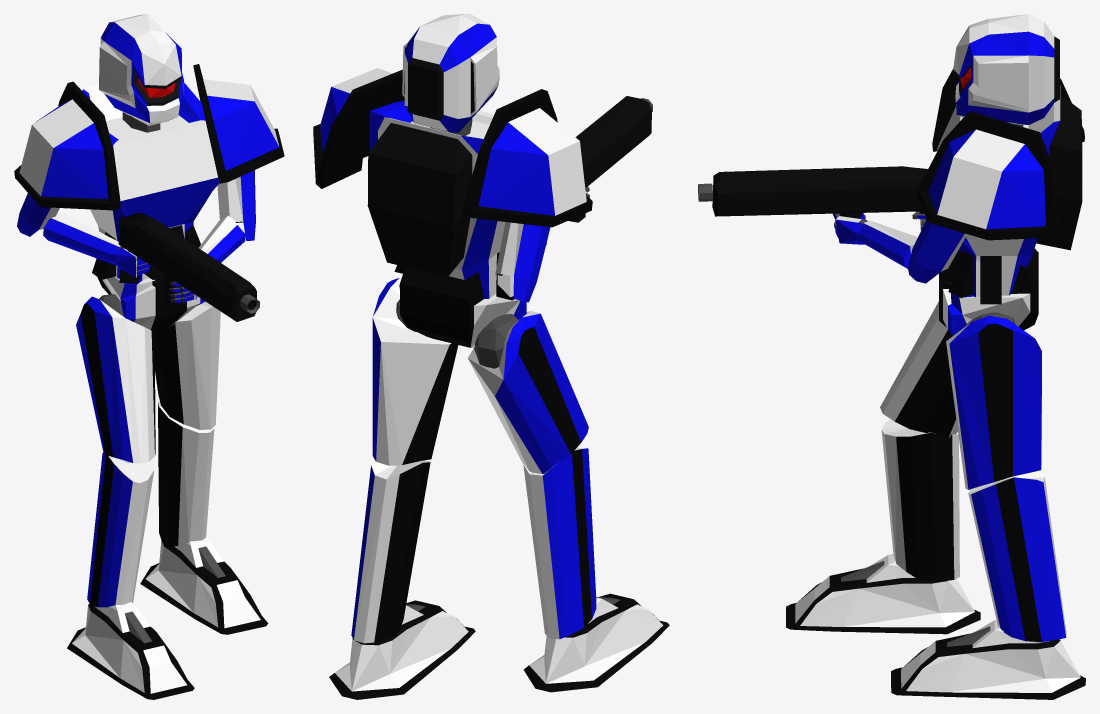
The model's file is robots_000009.obj.
3 views of the same model, side by side, from view 1: azimuth 30°, elevation 25°; view 2: azimuth 150°, elevation 25°; view 3: azimuth 270°, elevation 25° (orthographic). The views are drawn at different scales.
Visible parts, largest first — view 1: Chest_plate_Cube.004, R_Thigh_Cube.005, Cube.002_Cube.059, Head_base_Cube.022, R_Shin_Cube.007, R_Foot_Cube, R_Foot.002_Cube.035, R_Thigh.002_Cube.027, Cube_Cube.001, R_Shin.002_Cube.029, Cube_Cube.021, Pelvis_Cube.006 (+5 smaller); view 2: Chest_plate_Cube.004, Cube.002_Cube.059, R_Thigh.002_Cube.027, R_Thigh_Cube.005, R_Shin_Cube.007, R_Shin.002_Cube.029, Head_base_Cube.022, R_Foot_Cube, R_Foot.002_Cube.035, Pelvis_Cube.006, Cube_Cube.021, Cube_Cube.001 (+2 smaller); view 3: Cube_Cube.021, R_Thigh.002_Cube.027, R_Shin.002_Cube.029, R_Shin_Cube.007, R_Foot.002_Cube.035, R_Foot_Cube, Head_base_Cube.022, Cube_Cube.001, Chest_plate_Cube.004, R_Thigh_Cube.005, Pelvis_Cube.006, L_Arm_Cube.014 (+3 smaller).
Boxes of the visible parts, left/top/right/bottom form: Chest_plate_Cube.004: left=82, top=83, right=219, bottom=284; R_Thigh_Cube.005: left=76, top=296, right=155, bottom=463; Cube.002_Cube.059: left=14, top=81, right=120, bottom=210; Head_base_Cube.022: left=99, top=14, right=184, bottom=125; R_Shin_Cube.007: left=87, top=452, right=154, bottom=607; R_Foot_Cube: left=67, top=602, right=194, bottom=699; R_Foot.002_Cube.035: left=140, top=538, right=268, bottom=634; R_Thigh.002_Cube.027: left=153, top=301, right=220, bottom=429; Cube_Cube.001: left=118, top=212, right=259, bottom=321; R_Shin.002_Cube.029: left=158, top=401, right=214, bottom=546; Cube_Cube.021: left=193, top=64, right=284, bottom=183; Pelvis_Cube.006: left=96, top=258, right=205, bottom=331; Chest_plate_Cube.004: left=367, top=101, right=514, bottom=300; Cube.002_Cube.059: left=462, top=89, right=592, bottom=227; R_Thigh.002_Cube.027: left=372, top=277, right=458, bottom=465; R_Thigh_Cube.005: left=468, top=311, right=588, bottom=473; R_Shin_Cube.007: left=523, top=447, right=596, bottom=639; R_Shin.002_Cube.029: left=351, top=457, right=430, bottom=643; Head_base_Cube.022: left=402, top=14, right=499, bottom=132; R_Foot_Cube: left=523, top=593, right=669, bottom=692; R_Foot.002_Cube.035: left=329, top=600, right=475, bottom=699; Pelvis_Cube.006: left=398, top=267, right=526, bottom=347; Cube_Cube.021: left=313, top=68, right=404, bottom=188; Cube_Cube.001: left=568, top=96, right=652, bottom=222; Cube_Cube.021: left=916, top=111, right=1058, bottom=240; R_Thigh.002_Cube.027: left=946, top=315, right=1041, bottom=489; R_Shin.002_Cube.029: left=968, top=470, right=1066, bottom=641; R_Shin_Cube.007: left=881, top=419, right=959, bottom=581; R_Foot.002_Cube.035: left=891, top=620, right=1085, bottom=699; R_Foot_Cube: left=786, top=554, right=980, bottom=634; Head_base_Cube.022: left=953, top=14, right=1059, bottom=124; Cube_Cube.001: left=698, top=166, right=927, bottom=220; Chest_plate_Cube.004: left=937, top=85, right=1082, bottom=304; R_Thigh_Cube.005: left=880, top=301, right=1025, bottom=438; Pelvis_Cube.006: left=939, top=248, right=1038, bottom=335; L_Arm_Cube.014: left=908, top=219, right=967, bottom=283.
Bounding box in the file's own units: 1.32 × 3.03 × 1.69.
